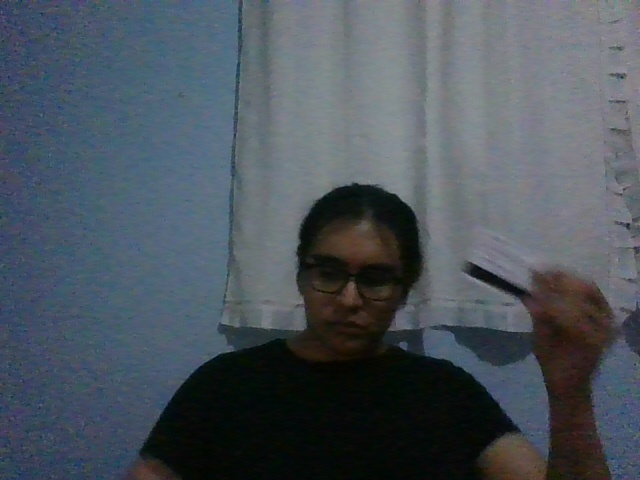tarjeta: (459, 225, 536, 300)
